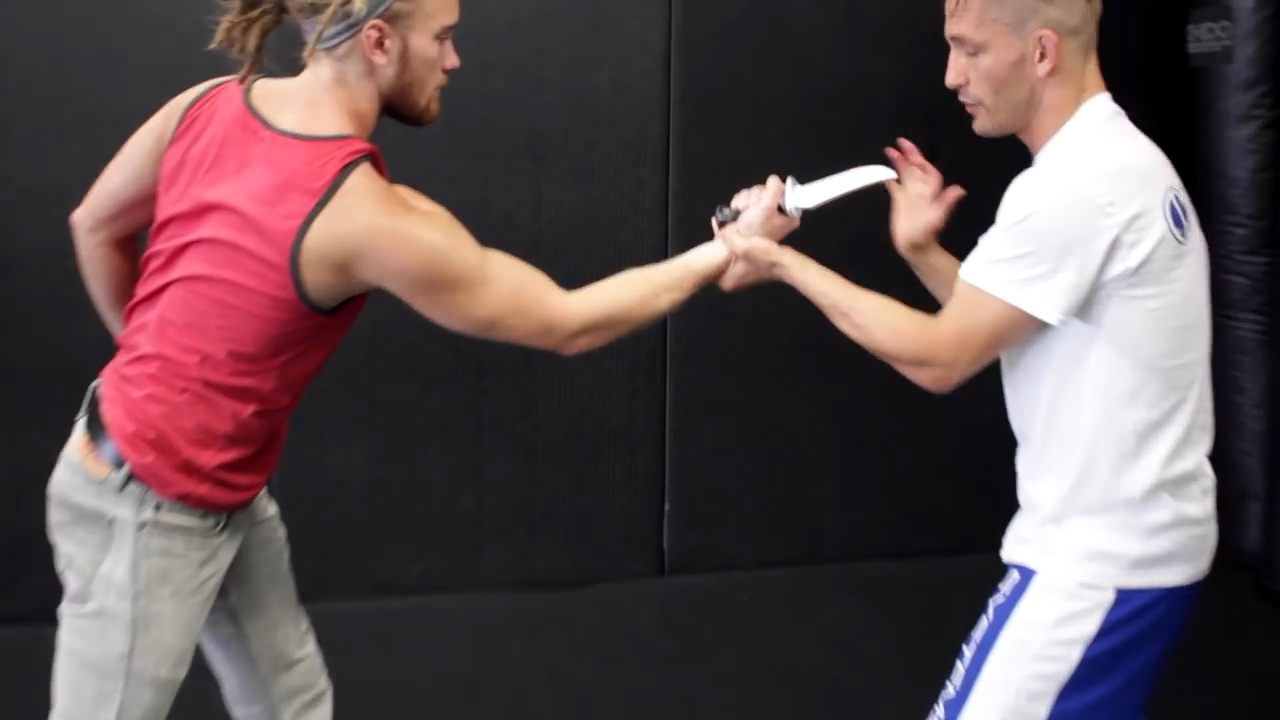knife: (706, 143, 912, 230)
